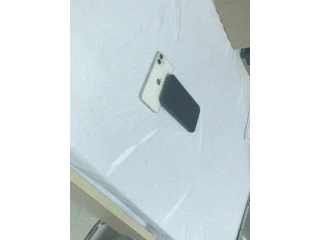phone: (159, 74, 201, 133), (139, 52, 175, 111)
